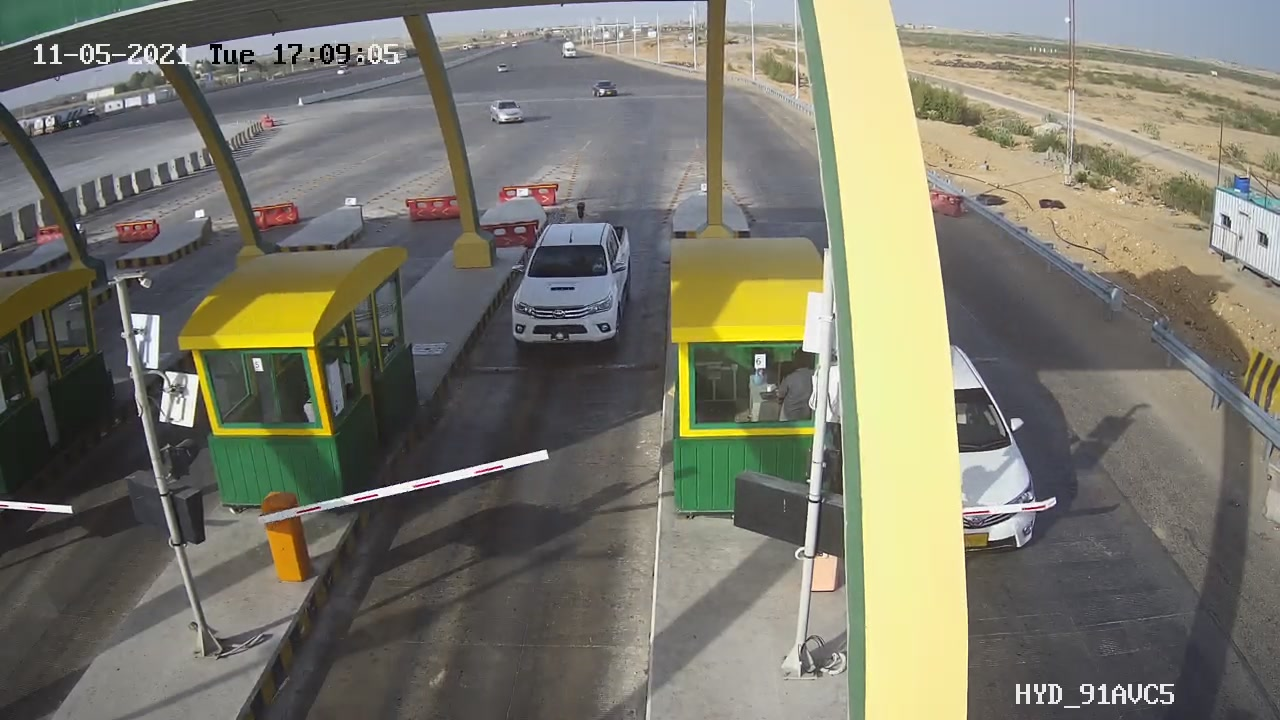F1: (482, 182, 663, 374)
